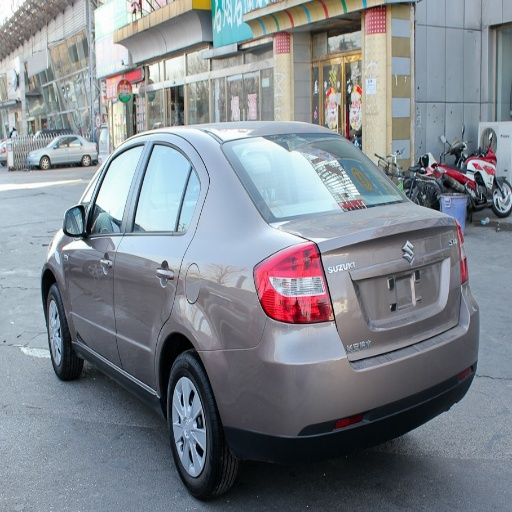back_bumper: (207, 289, 477, 468)
back_glass: (221, 132, 405, 218)
back_left_door: (116, 136, 206, 379)
